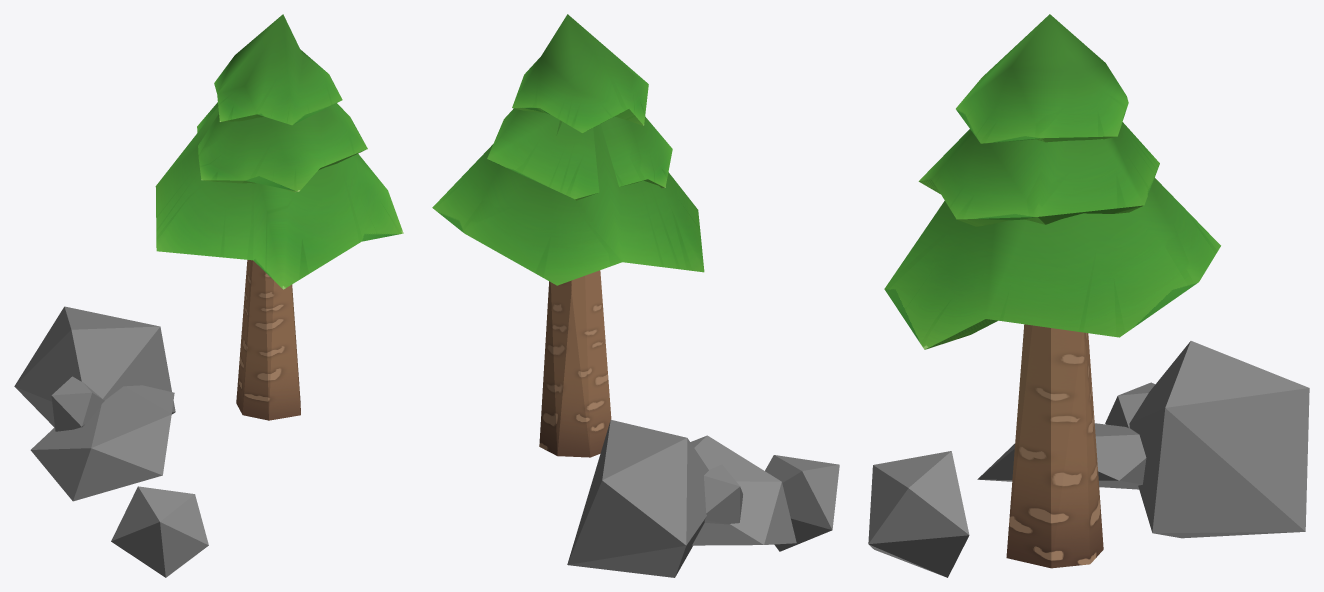
File: assets forest.fbx
3 renders of one model, left to right at view 1: azimuth 30°, elevation 25°; view 2: azimuth 150°, elevation 25°; view 3: azimuth 270°, elevation 25°, orthographic. The views are drawn at different scales.
Parts seen in each view (by area): view 1: Plane.005, Cube.008, Cube.006; view 2: Plane.005, Cube.008, Cube.006; view 3: Plane.005, Cube.008, Cube.006.
Boxes of the visible parts, <box> form: Plane.005: <box>155,14,403,420</box>; Cube.008: <box>14,306,175,501</box>; Cube.006: <box>111,486,208,577</box>; Plane.005: <box>432,14,704,457</box>; Cube.008: <box>567,420,796,577</box>; Cube.006: <box>765,455,839,551</box>; Plane.005: <box>884,14,1220,568</box>; Cube.008: <box>977,341,1309,538</box>; Cube.006: <box>868,451,969,577</box>.
Bounding box in the file's own units: 844 × 1232 × 734.
